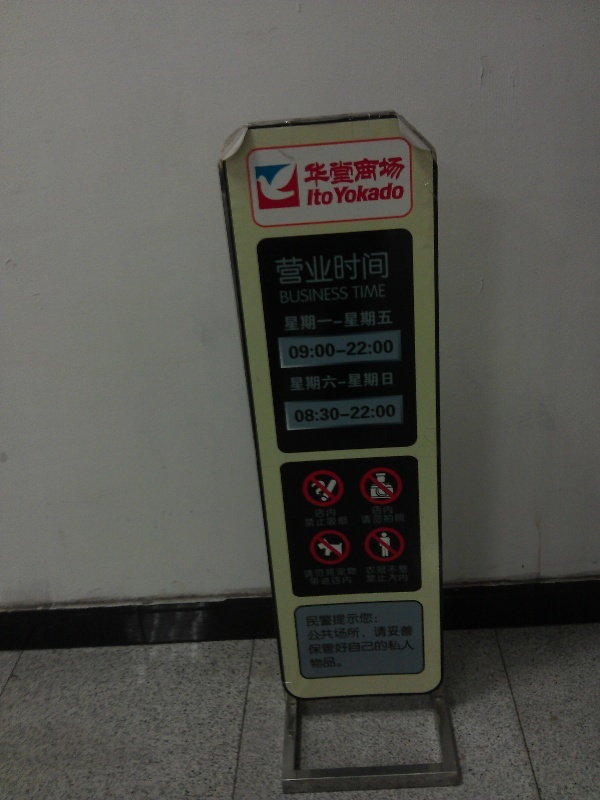text: (289, 250, 304, 287), (305, 250, 320, 287), (321, 250, 336, 287), (337, 250, 352, 287), (353, 250, 368, 287), (369, 250, 384, 287), (275, 250, 288, 287), (305, 155, 320, 187), (321, 155, 336, 187), (337, 155, 352, 187), (353, 155, 368, 187), (369, 155, 384, 187), (385, 155, 400, 187), (289, 309, 304, 333), (305, 309, 320, 333), (321, 309, 336, 333), (337, 309, 352, 333), (353, 309, 368, 333), (369, 309, 384, 333), (337, 181, 352, 205), (353, 181, 368, 205), (369, 181, 384, 205), (385, 181, 400, 205), (289, 339, 304, 361), (305, 339, 320, 361), (321, 339, 336, 361), (337, 339, 352, 361), (353, 339, 368, 361), (369, 339, 384, 361), (289, 370, 304, 392), (305, 370, 320, 392), (321, 370, 336, 392), (337, 370, 352, 392), (353, 370, 368, 392), (369, 370, 384, 392), (305, 403, 320, 423), (321, 403, 336, 423), (337, 403, 352, 423), (353, 403, 368, 423), (369, 403, 384, 423), (306, 187, 320, 208), (321, 187, 335, 208), (289, 286, 304, 305), (305, 286, 320, 305), (321, 286, 336, 305), (321, 624, 336, 641), (337, 624, 352, 641), (353, 624, 368, 641), (369, 624, 384, 641), (385, 624, 400, 641), (353, 284, 368, 301), (369, 284, 384, 301), (385, 403, 397, 423), (321, 639, 336, 655), (337, 639, 352, 655), (353, 639, 368, 655), (369, 639, 384, 655), (385, 639, 400, 655), (337, 286, 349, 305), (321, 612, 336, 627), (337, 612, 352, 627), (353, 612, 368, 627), (401, 639, 415, 655), (385, 250, 391, 287), (401, 624, 414, 641), (385, 370, 395, 392), (385, 309, 394, 333), (306, 612, 320, 627), (308, 624, 320, 641), (294, 403, 304, 423), (385, 339, 394, 361), (321, 656, 336, 669), (278, 286, 288, 305), (305, 516, 320, 528), (321, 516, 336, 528), (369, 513, 384, 525), (385, 513, 400, 525), (305, 567, 320, 579), (321, 567, 336, 579), (337, 567, 352, 579), (309, 639, 320, 655), (321, 507, 337, 518), (321, 576, 336, 587), (337, 576, 352, 587), (401, 155, 406, 187), (369, 565, 384, 575), (385, 565, 400, 575), (369, 574, 384, 584), (385, 574, 400, 584), (337, 516, 349, 528), (369, 612, 378, 627), (310, 656, 320, 669), (372, 505, 384, 515), (401, 181, 406, 205), (310, 576, 320, 587), (284, 309, 288, 333), (385, 505, 394, 515), (401, 574, 409, 584), (337, 656, 343, 669), (362, 513, 368, 525), (333, 181, 336, 205), (401, 565, 408, 575), (353, 567, 358, 579), (315, 507, 320, 518), (385, 284, 388, 301), (401, 513, 405, 525), (303, 155, 304, 187), (366, 565, 368, 575), (366, 574, 368, 584)
